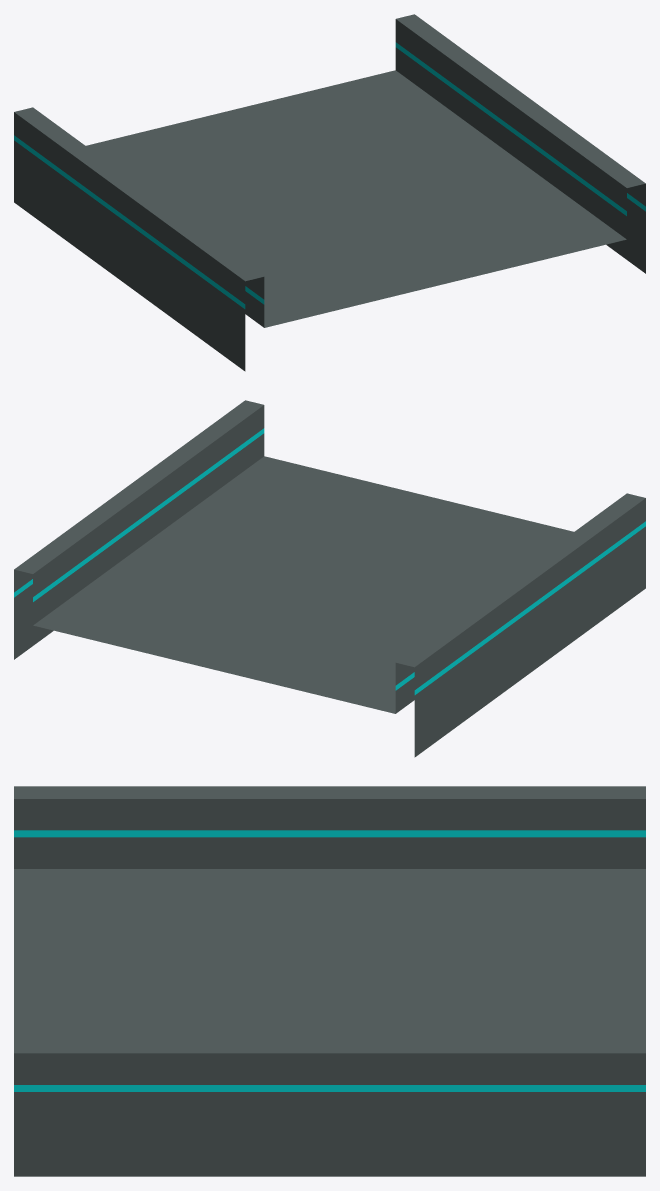
Rendered from SM_RoadTrack02.fbx.
3 views of the same model, one above another, from view 1: azimuth 30°, elevation 25°; view 2: azimuth 150°, elevation 25°; view 3: azimuth 270°, elevation 25° (orthographic). The views are drawn at different scales.
Visible parts, largest first — view 1: Road_mesh; view 2: Road_mesh; view 3: Road_mesh.
Boxes of the visible parts, x1=… form: Road_mesh: x1=14, y1=14, x2=645, y2=371; Road_mesh: x1=14, y1=400, x2=645, y2=757; Road_mesh: x1=14, y1=786, x2=645, y2=1176.
Size of the model in its own units: 997 by 215 by 997.
